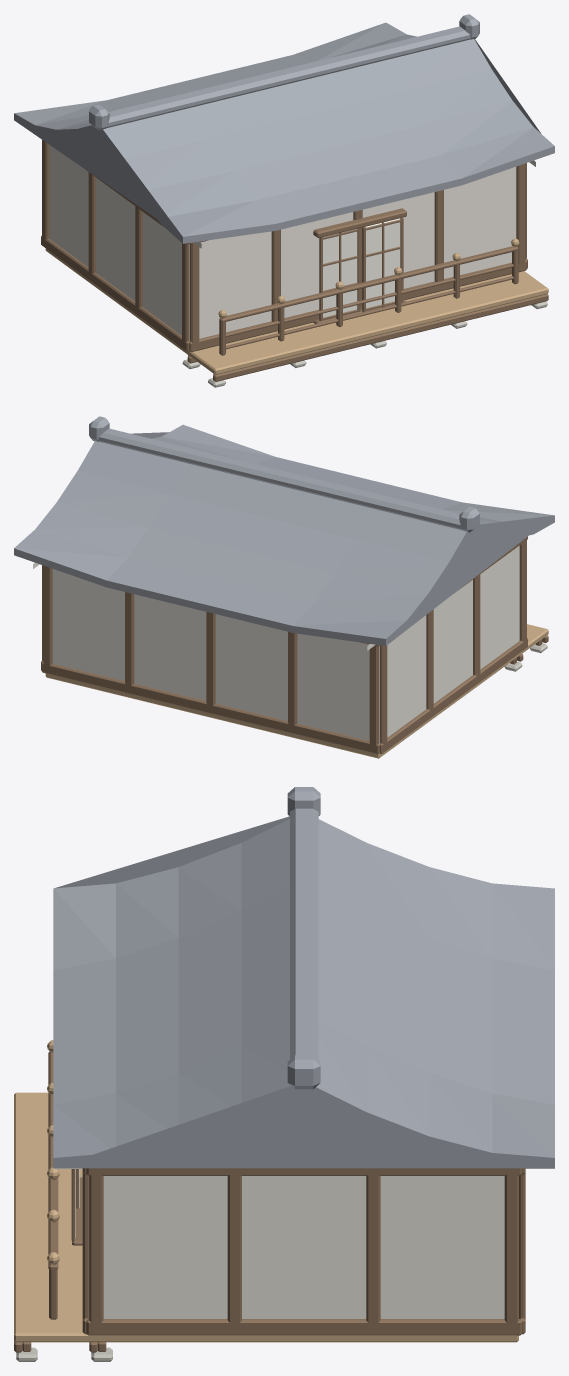
File: guild-meeting-hall.glb
3 renders of one model, top to bottom at view 1: azimuth 30°, elevation 25°; view 2: azimuth 150°, elevation 25°; view 3: azimuth 270°, elevation 25°, orthographic. The views are drawn at different scales.
Visible parts, largest first — view 1: guild-meeting-hall; view 2: guild-meeting-hall; view 3: guild-meeting-hall.
Boxes of the visible parts, x1,y1,x2,y2 form: guild-meeting-hall: (14,14,554,387); guild-meeting-hall: (14,416,554,758); guild-meeting-hall: (14,787,554,1361).
Size of the model in its own units: 9.2 by 4.91 by 7.55.
